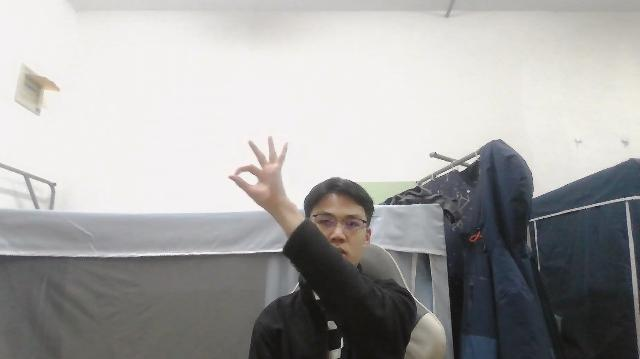ok: (223, 136, 294, 210)
